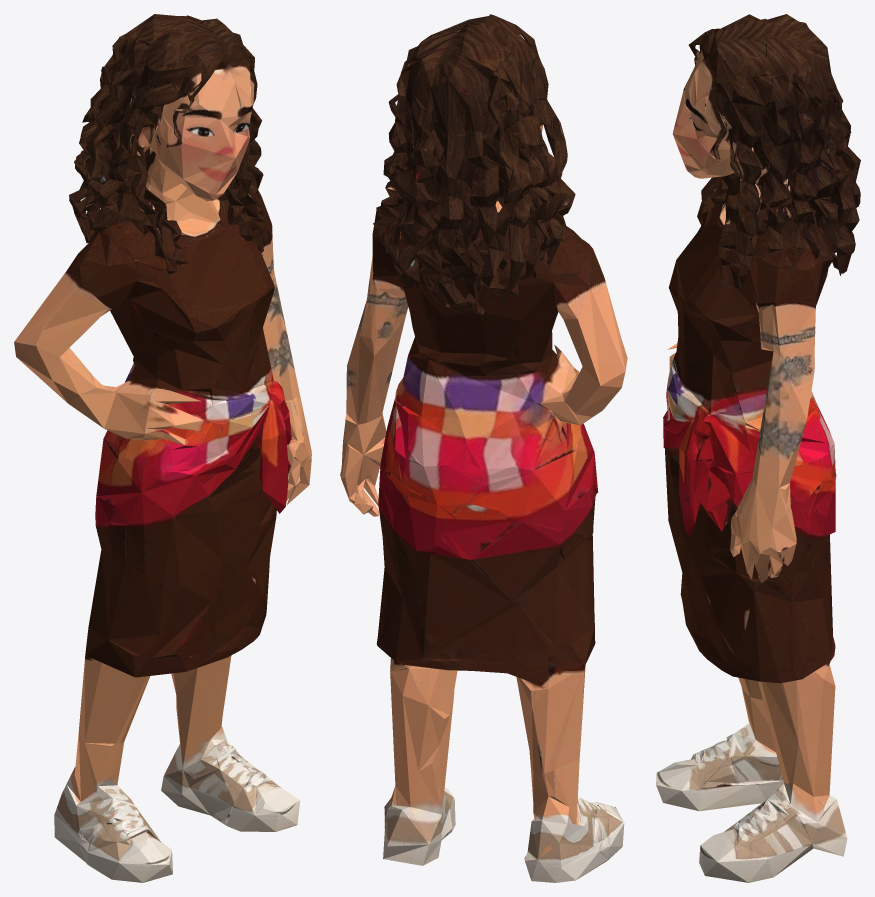
File: cacheada.glb
3 renders of one model, left to right at view 1: azimuth 30°, elevation 25°; view 2: azimuth 150°, elevation 25°; view 3: azimuth 270°, elevation 25°, orthographic.
Bounding box in the file's own units: 0.6988 × 1.9 × 0.431.
1 material, 1 textured.
